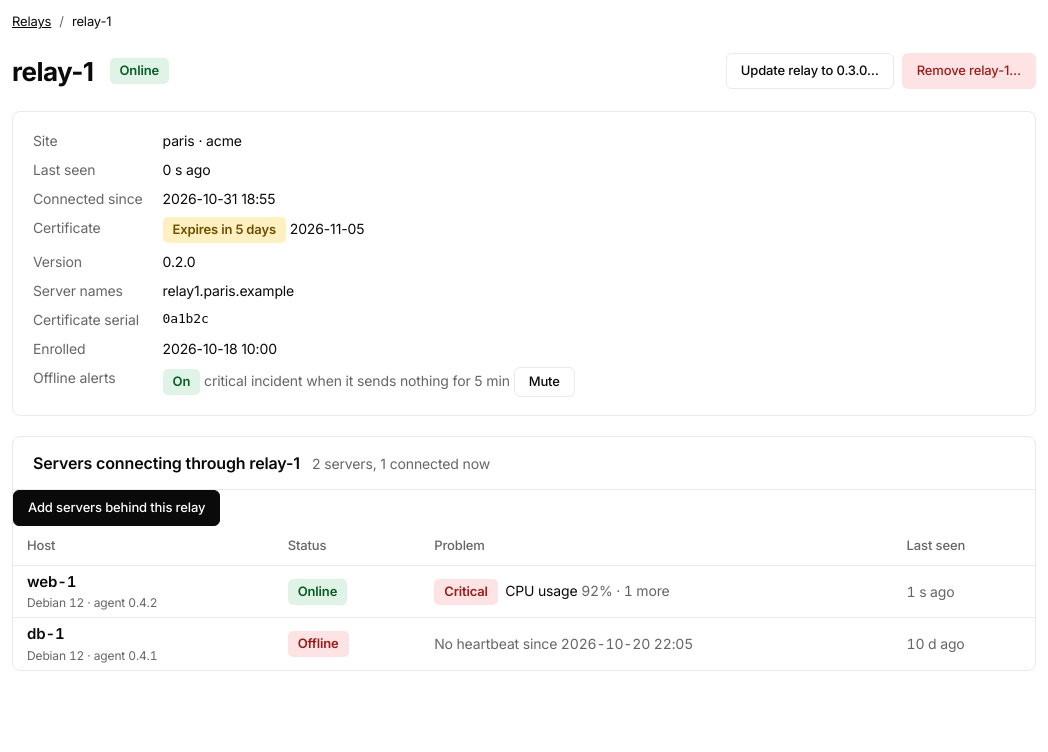
Test: RelayPage › updates an older relay to the newest release, after confirmation
The width and height of the screenshot is (1048, 752).
Click the button "Update relay to 0.3.0…" at (810, 71), box [726,53,894,89]
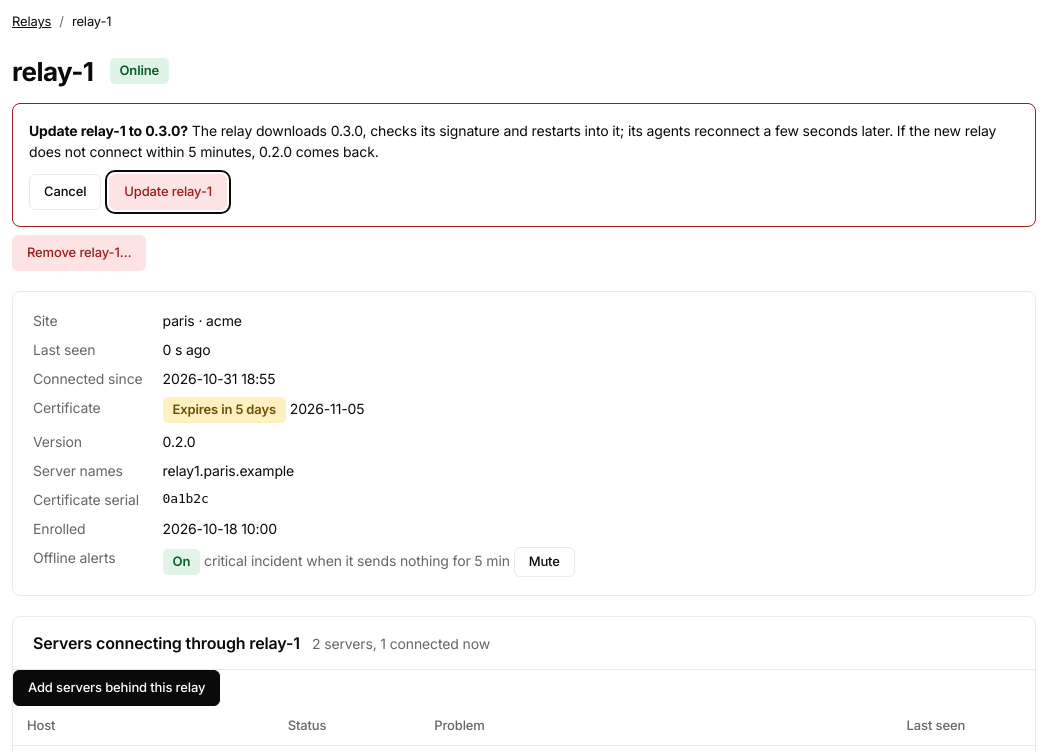
expect the form "Update relay-1 to 0.3.0?" shows "agents reconnect": met, box [29,122,996,160]
Click the button "Update relay-1" at (168, 192), box [109,174,227,210]
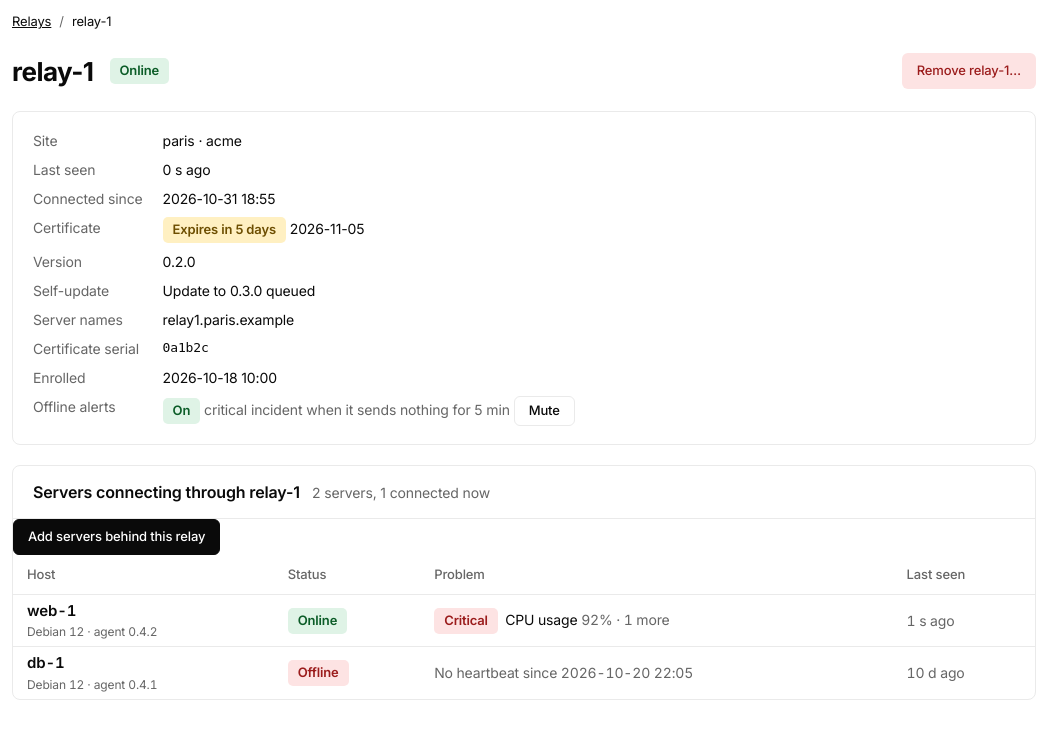
expect the text "Update to 0.3.0 queued" is shown: met, box [163,282,315,298]
expect the text "Update relay" is gone: met
